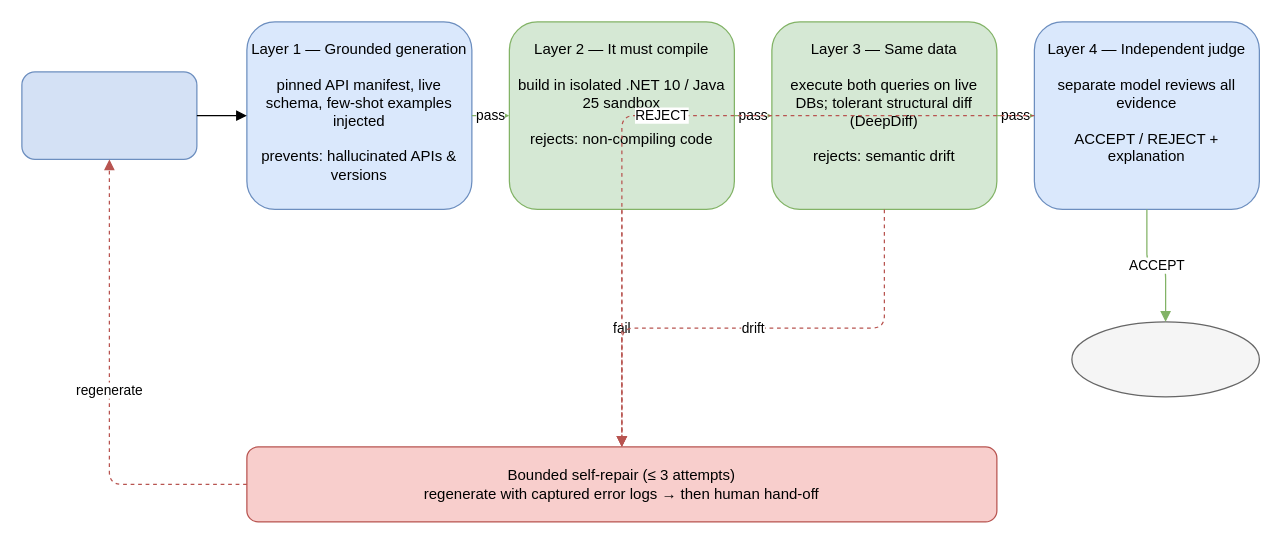
The diagram is 1281 pixels wide and 544 high, and some of its shapes have lost their labels. The shapes that lost their labels are listed below. From the top down, each one's centre as x and y in pixels, then its label:
At (109,115): "generate_translation (LLM)".
At (1165,359): "ACCEPT return verified code".
